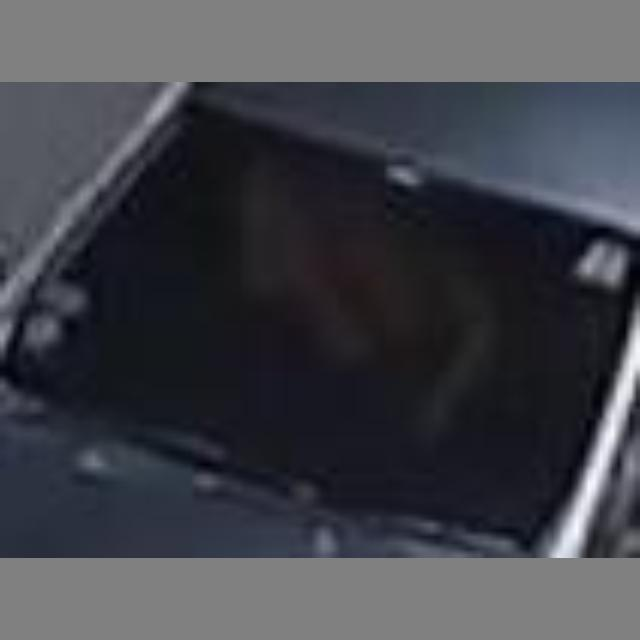pakai: (187, 154, 465, 414)
